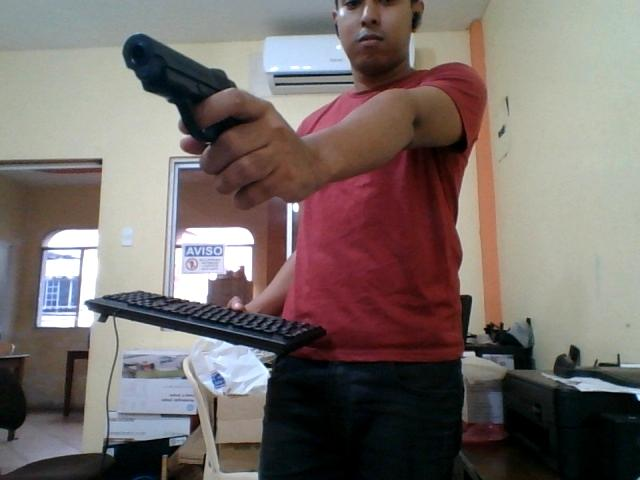pistol: (121, 30, 243, 146)
